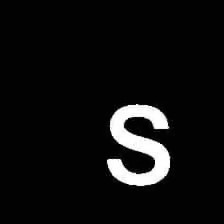LTR_S: (98, 96, 175, 190)
